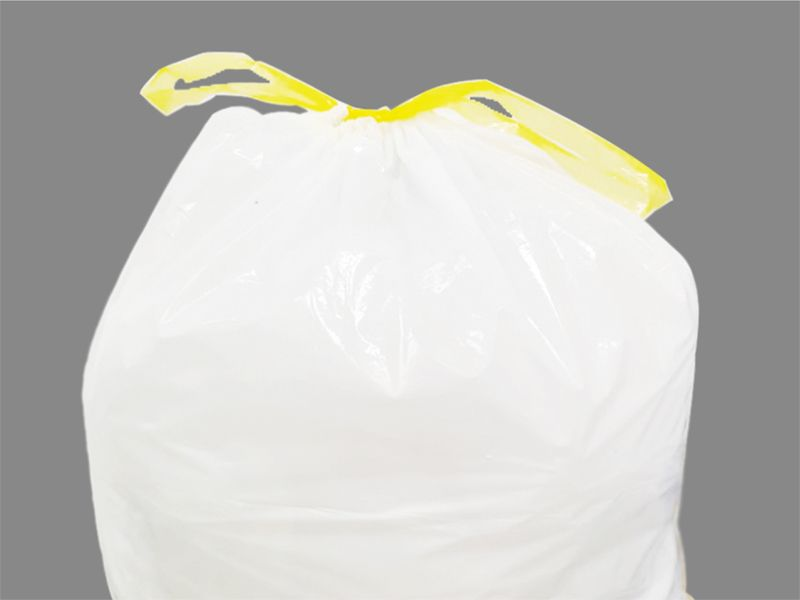plastic_bagwdw: (53, 39, 715, 600)
